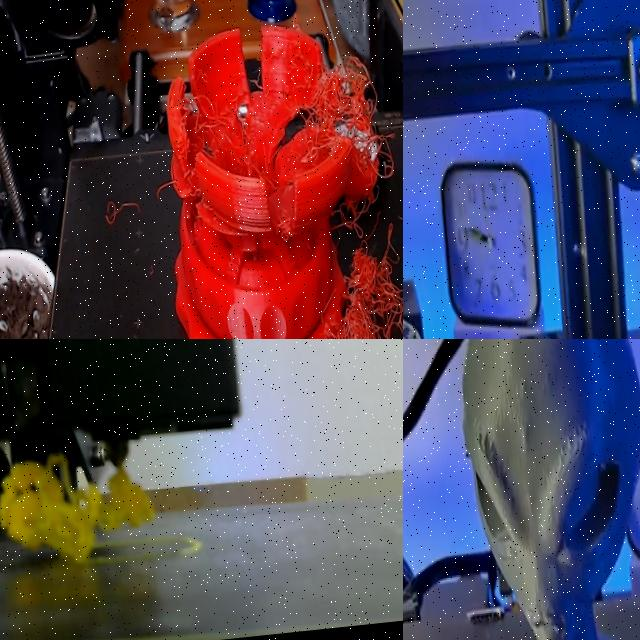spaghetti: (0, 453, 154, 561)
